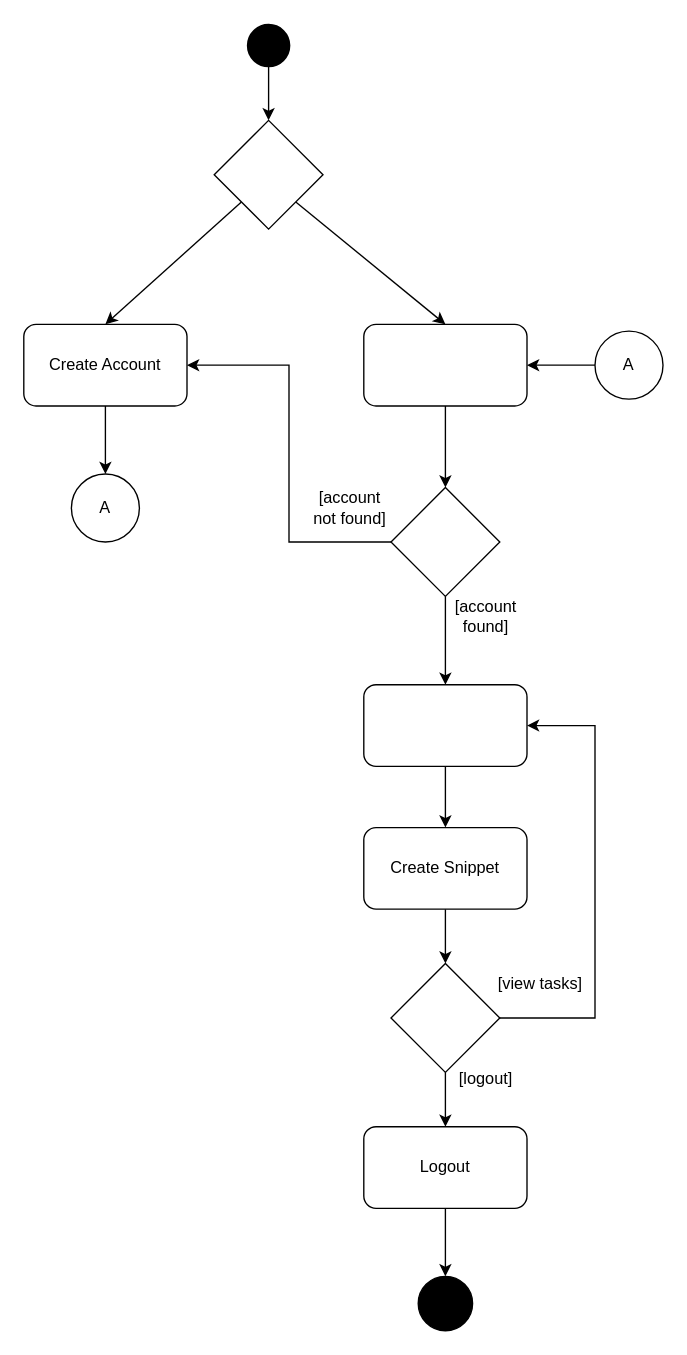
Some shapes in this 687 by 1355 pixel diagram are drawn without their labels. The shapes that lost their labels are listed below. From the top down, each one's centre as x and y in pixels, then its label:
point 444,364: Log In
point 444,724: View Snippets
